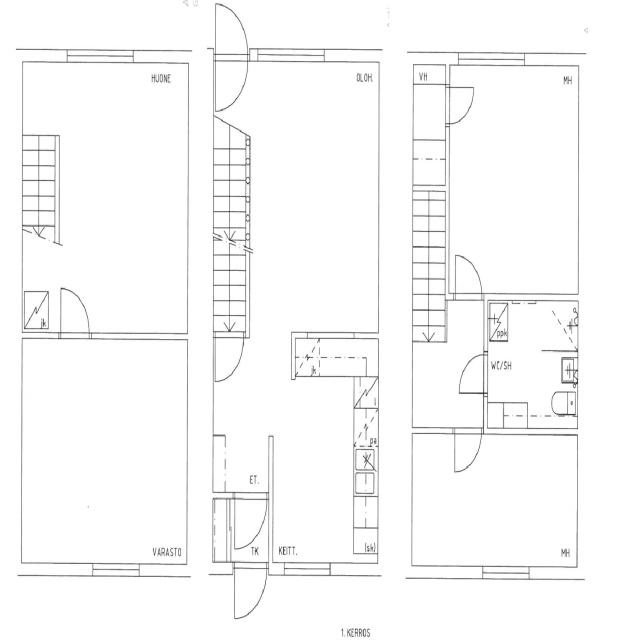door: (452, 347, 485, 475), (214, 10, 250, 117), (57, 281, 94, 341), (451, 248, 486, 304), (451, 424, 484, 476), (211, 333, 245, 383), (456, 347, 488, 397), (445, 80, 477, 126)
zone: (214, 61, 380, 333), (25, 63, 186, 335), (448, 59, 578, 294), (484, 300, 576, 431), (216, 410, 270, 492), (230, 492, 269, 557), (231, 558, 269, 624)
